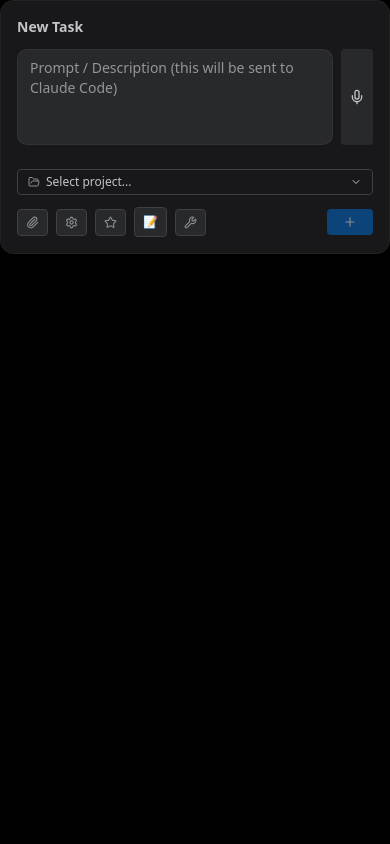
Scenario: TaskForm number input fields › maxIterations (loop mode) › normalizes 0 to 1 on blur
Click the 2nd button "Config" at (72, 222), box [56,208,87,236]
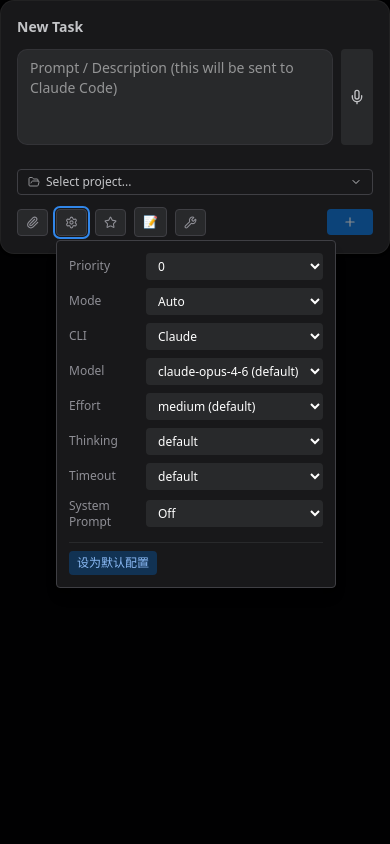
expect the 2nd dropdown showing "Auto" is shown: met
Select "Loop" in the 2nd dropdown showing "Auto" at (234, 301), box [146,288,323,314]
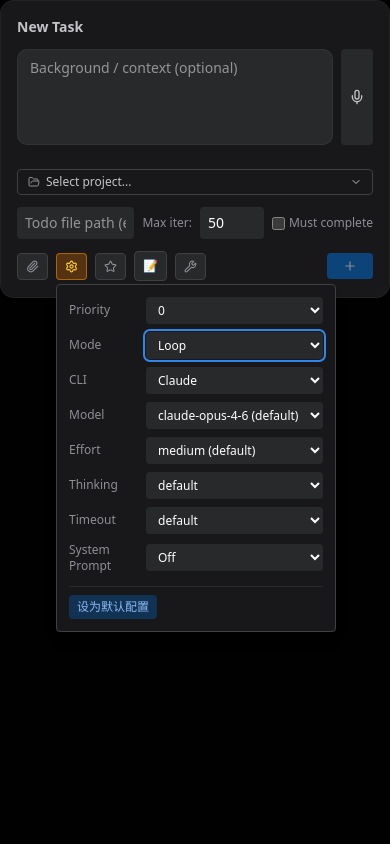
Replace the text in the field showing "50" with "0" at (232, 223), box [200,207,264,239]
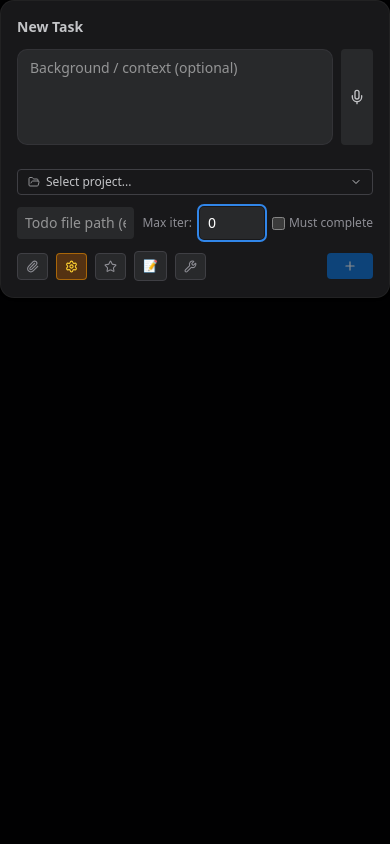
Leave the field showing "50", box [200,207,264,239]
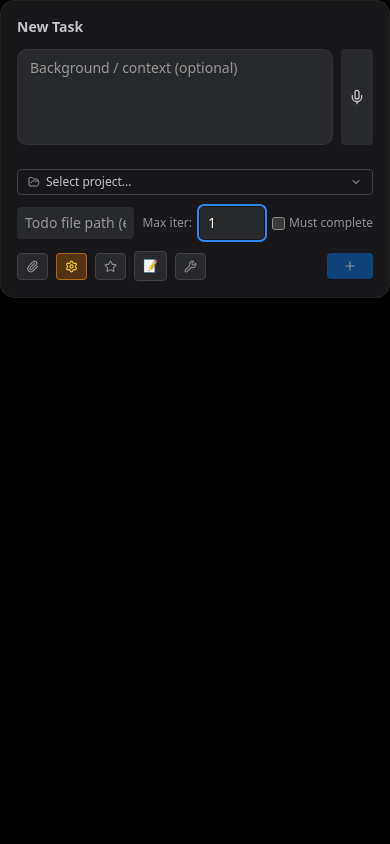
expect the field showing "50" holds "1": met, box [200,207,264,239]
